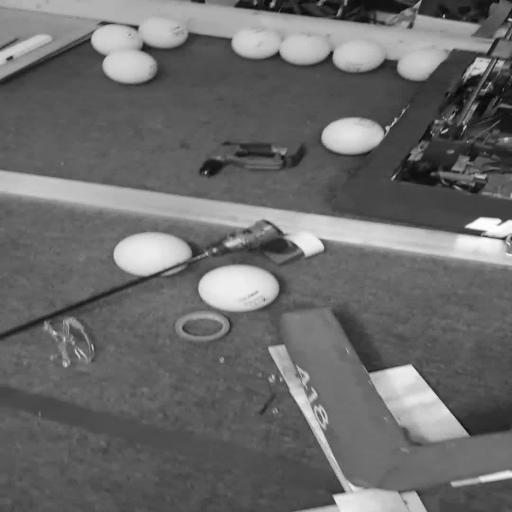fuel: (232, 27, 386, 73), (92, 17, 188, 84), (198, 265, 279, 312), (113, 232, 192, 276), (321, 118, 384, 155)
